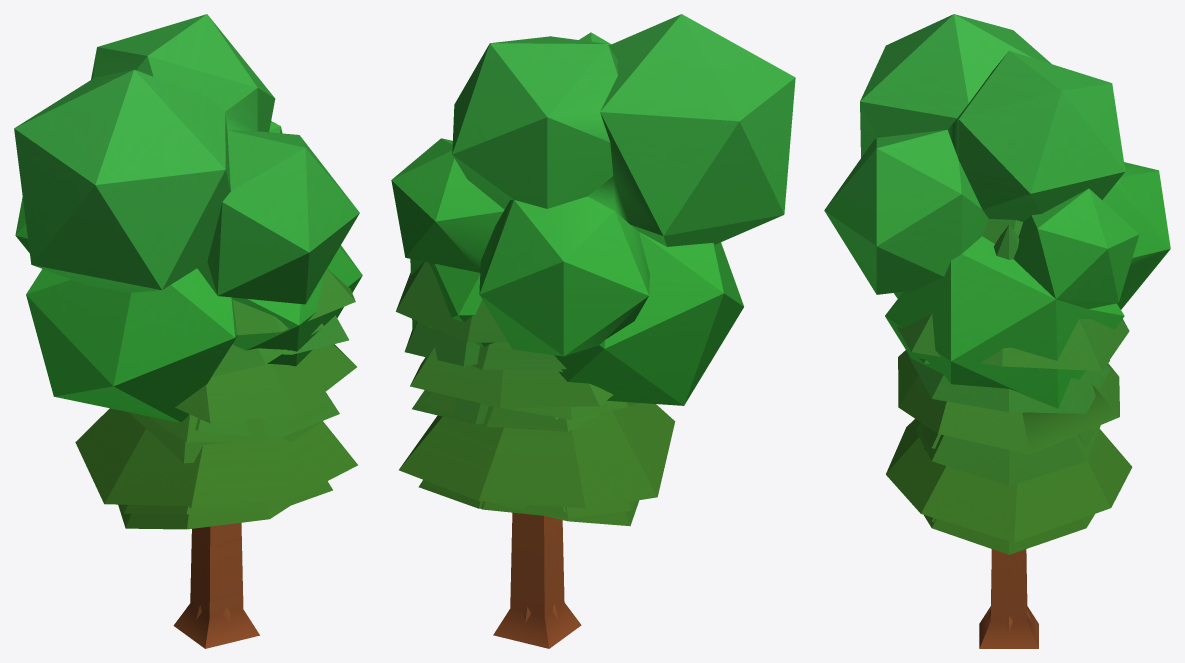
File: Tree.fbx
3 renders of one model, left to right at view 1: azimuth 30°, elevation 25°; view 2: azimuth 150°, elevation 25°; view 3: azimuth 270°, elevation 25°, orthographic. The views are drawn at different scales.
Parts seen in each view (by area): view 1: Tree; view 2: Tree; view 3: Tree.
Boxes of the visible parts, x1=… form: Tree: x1=14, y1=14, x2=362, y2=648; Tree: x1=391, y1=14, x2=795, y2=648; Tree: x1=824, y1=14, x2=1170, y2=648.
Size of the model in its own units: 257 by 451 by 248.
Materials: 1 (1 with a texture image).
